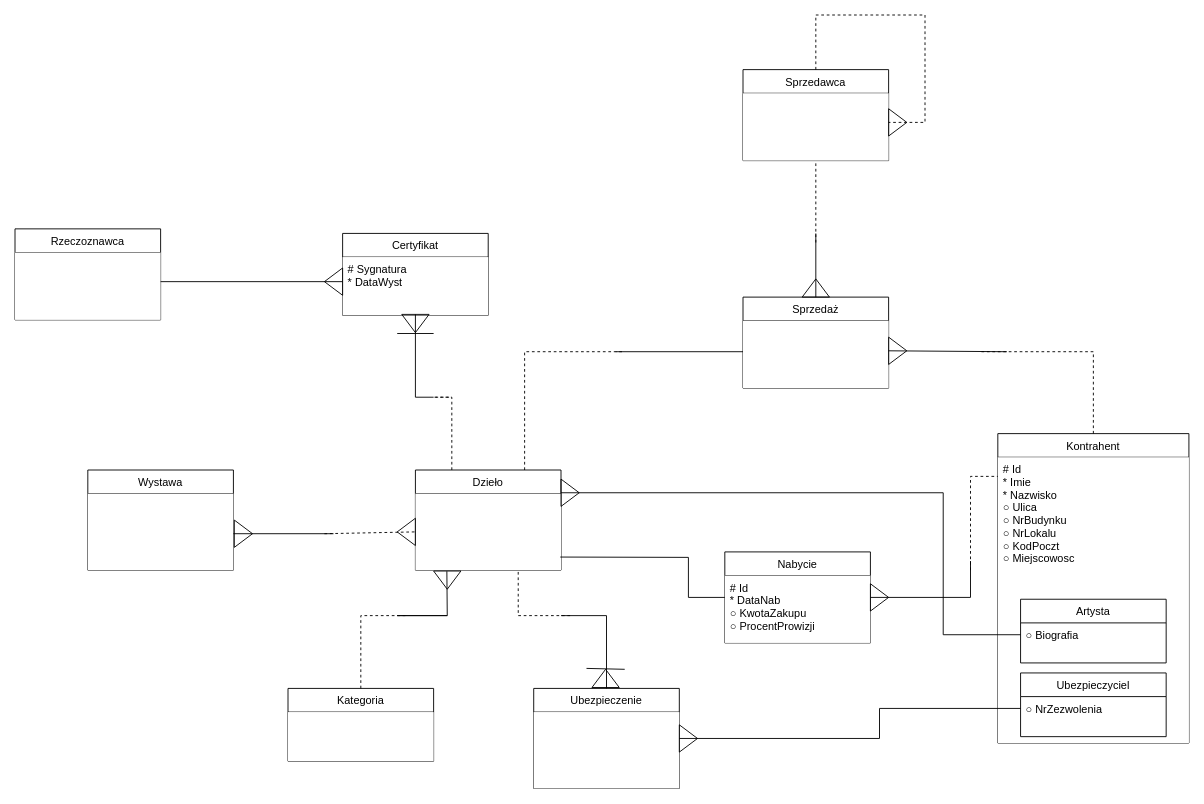
This 1204x804 diagram has some shape labels left out. Here are the shapes that lost their labels. From the top down, the centre of each, then its label:
At point 815,126: "# NrPracownika ○ Imie ○ Nazwisko".
At point 87,285: "# Id * Imie * Nazwisko ○ NrTel".
At point 815,354: "# Id * DataSp * Kwota ○ Prowizja".
At point 160,531: "# Id * Tytul ○ DataPocz ○ DataKon".
At point 488,531: "# NrInw * Tytul *Cena ○ Rozmiar ○ Tagi [0..*]".
At point 360,736: "# Id * Nazwa".
At point 606,750: "# NrPolisy ○ DataPocz ○ DataKon * KwotaUbezp * Koszt".
